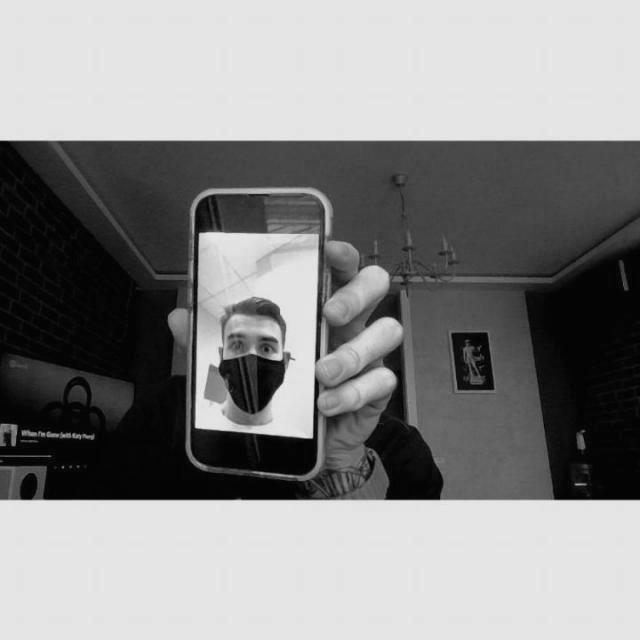fake: (181, 182, 342, 487)
